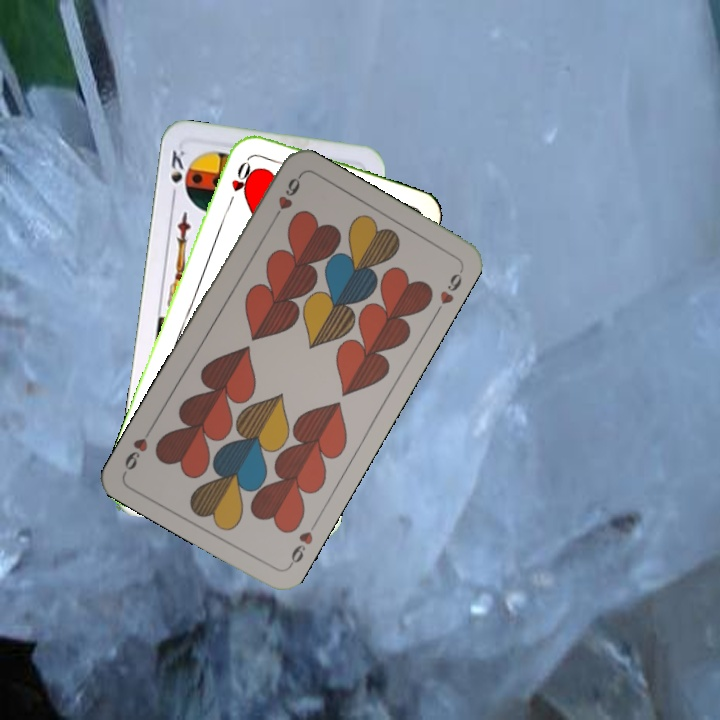H9: (268, 172, 304, 226), (284, 516, 320, 570)
HO: (224, 153, 254, 209)
SK: (166, 145, 188, 203)
